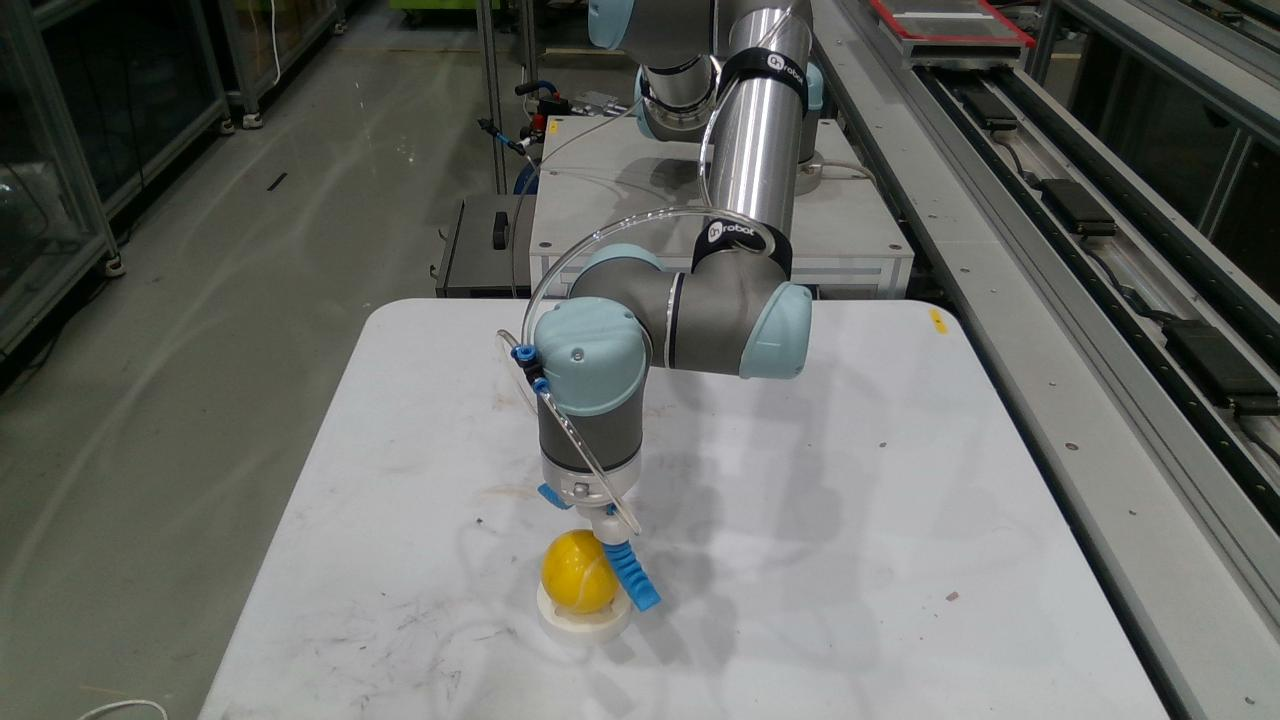UR5: (534, 0, 823, 545)
gripper_left: (537, 483, 572, 510)
gripper_right: (602, 541, 660, 610)
target: (544, 530, 618, 613), (536, 584, 633, 646)
